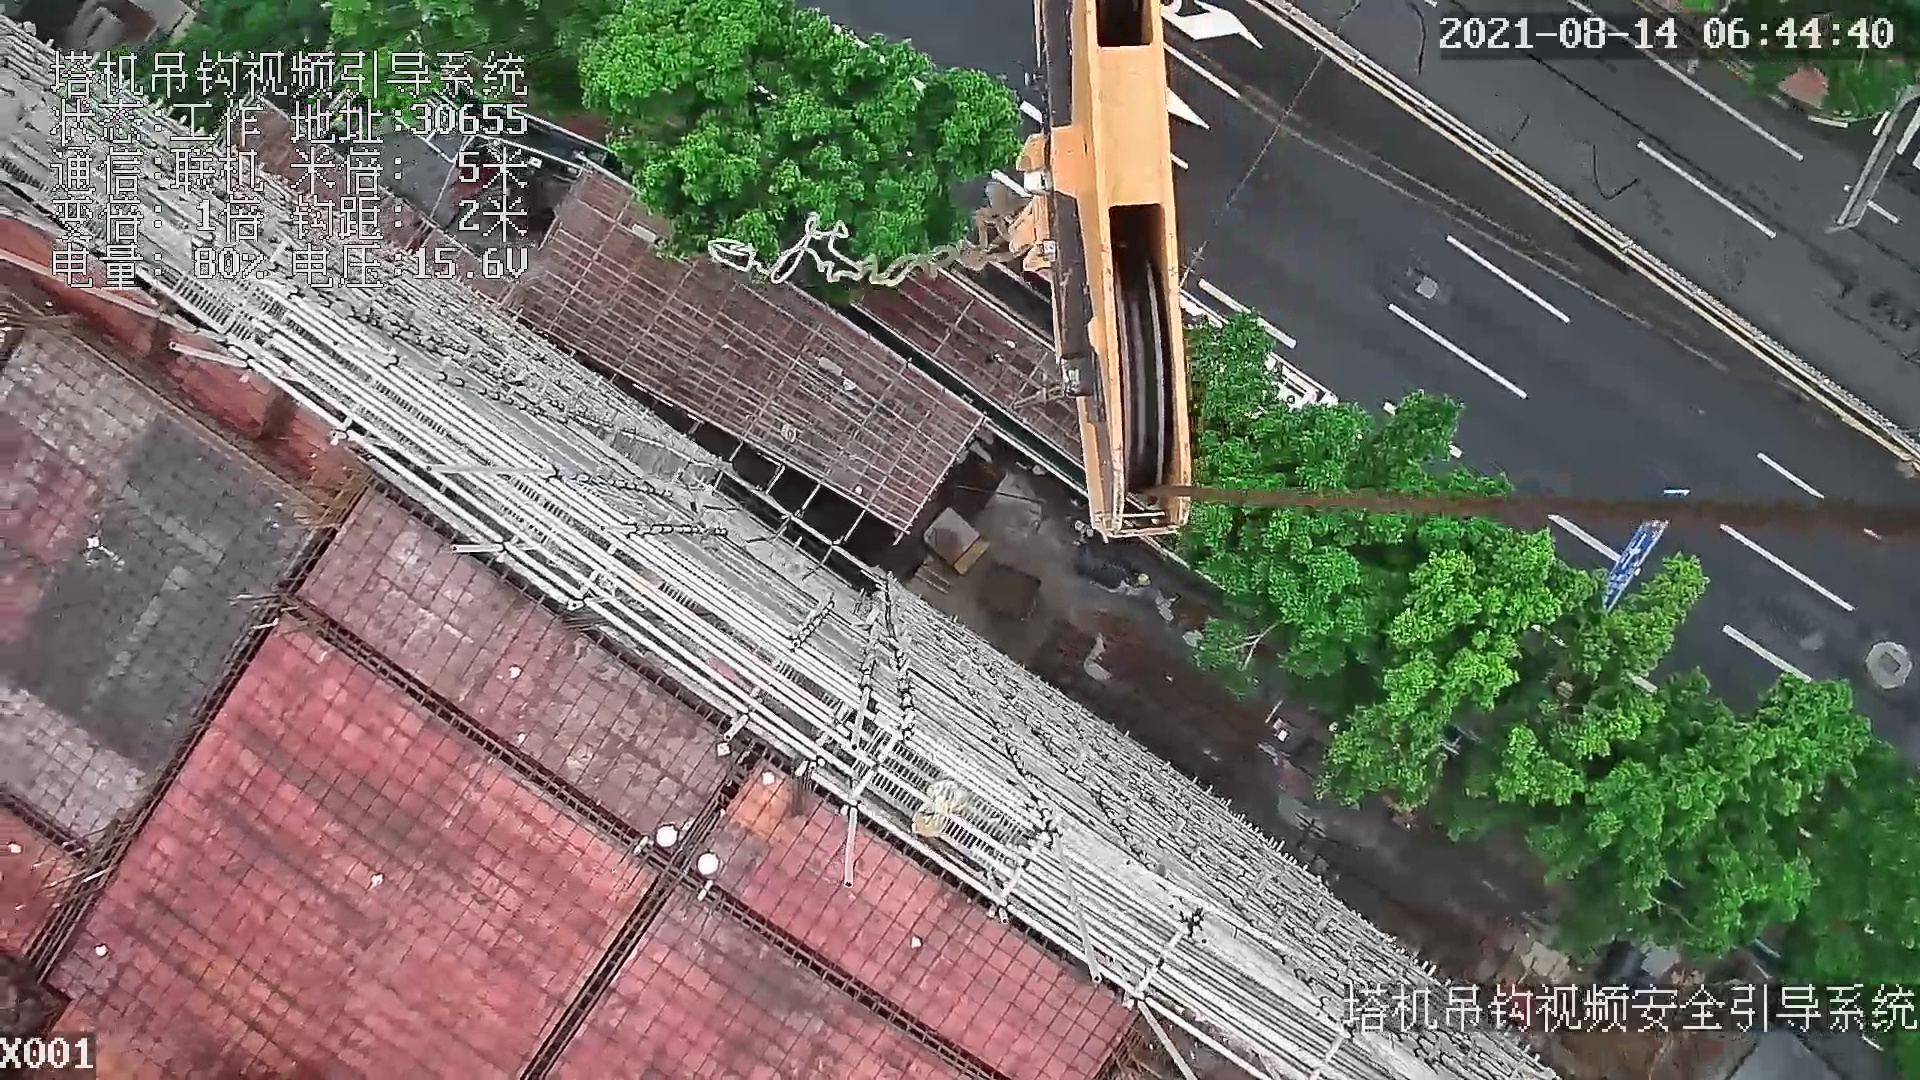hook: (986, 1, 1197, 545)
